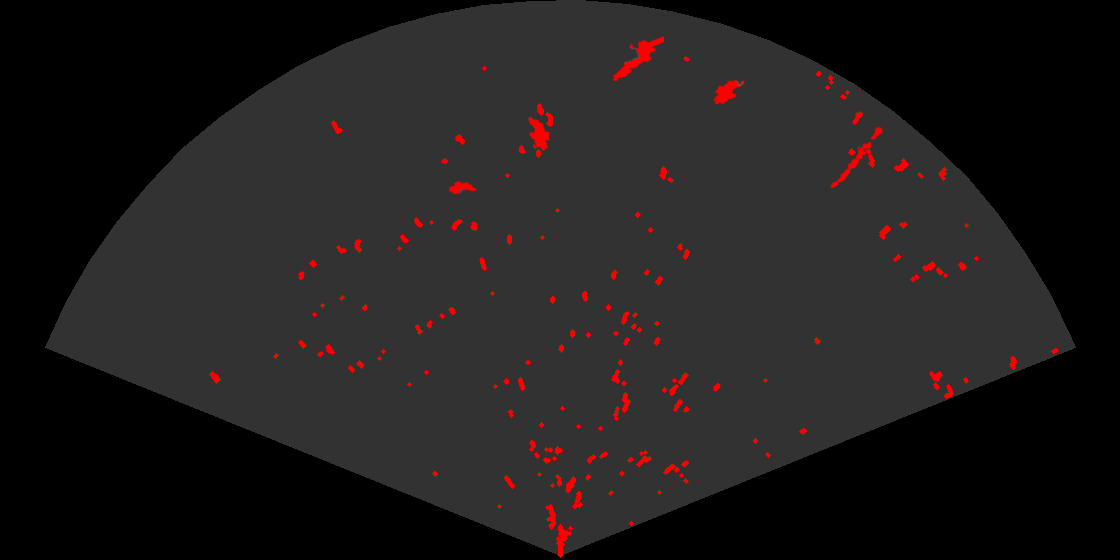AUV: (712, 78, 747, 106), (526, 115, 551, 153), (447, 178, 479, 196)
chain: (829, 121, 889, 190)
frogman: (601, 35, 664, 85)
